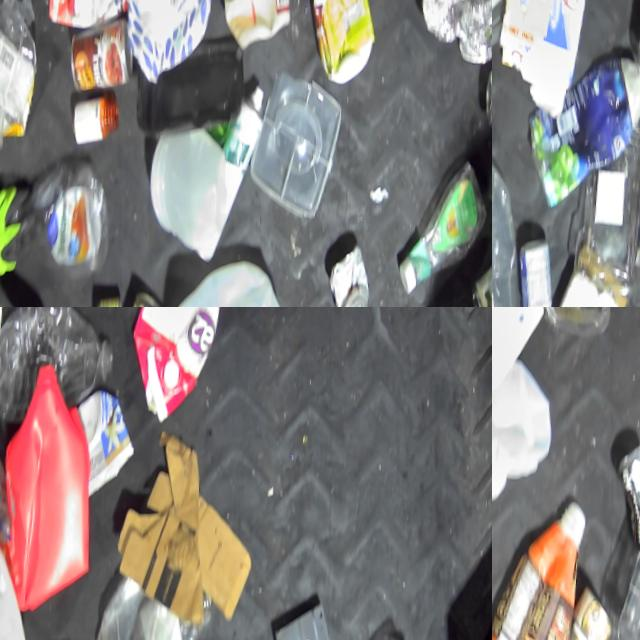can: (0, 153, 111, 285), (61, 18, 130, 106), (316, 247, 366, 307), (557, 599, 603, 640), (463, 246, 492, 307), (473, 77, 492, 141), (108, 289, 162, 307), (81, 293, 113, 307)
milk_jug: (139, 133, 233, 266), (492, 361, 548, 538), (154, 241, 284, 307)
non_white_jug: (0, 364, 100, 618), (512, 53, 640, 223), (492, 507, 588, 640), (125, 307, 218, 430)
plastic_bottle: (604, 490, 640, 640), (492, 133, 522, 307)
